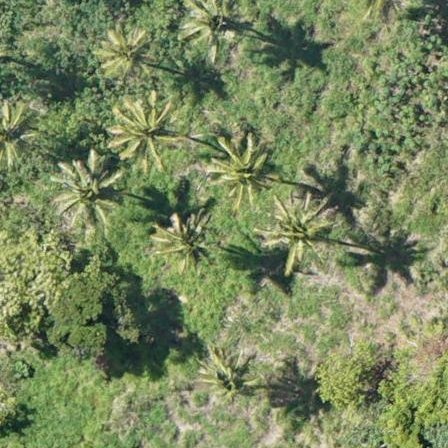palm_tree: (102, 92, 179, 174), (260, 193, 333, 271), (46, 151, 118, 228), (206, 134, 276, 209), (90, 17, 151, 82), (147, 208, 208, 273), (179, 1, 241, 51), (196, 349, 253, 403), (1, 95, 39, 165)
